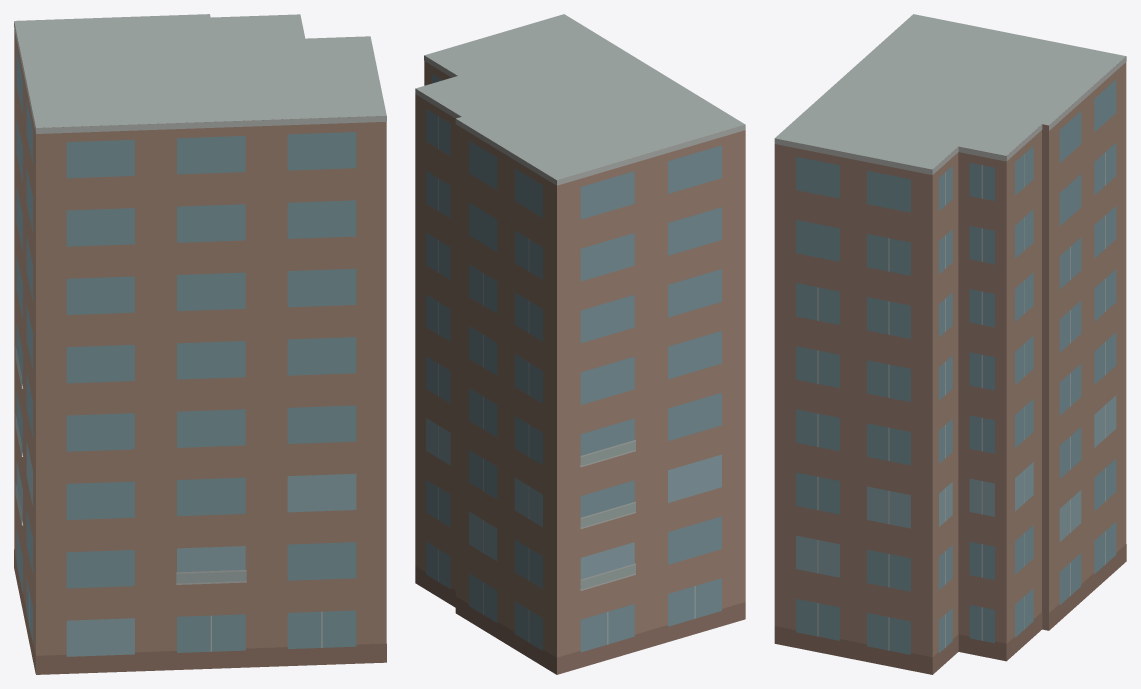
The model's file is survey-upis-32932606.glb.
The picture shows the model from 3 angles, left to right: view 1: azimuth 30°, elevation 25°; view 2: azimuth 150°, elevation 25°; view 3: azimuth 270°, elevation 25°; orthographic projection. The views are drawn at different scales.
Parts seen in each view (by area): view 1: survey-upis-32932606.tmp; view 2: survey-upis-32932606.tmp; view 3: survey-upis-32932606.tmp.
Boxes of the visible parts, x1=… form: survey-upis-32932606.tmp: x1=14, y1=14, x2=386, y2=674; survey-upis-32932606.tmp: x1=415, y1=14, x2=745, y2=674; survey-upis-32932606.tmp: x1=774, y1=14, x2=1126, y2=674.
Size of the model in its own units: 14.6 by 22.1 by 13.96.
